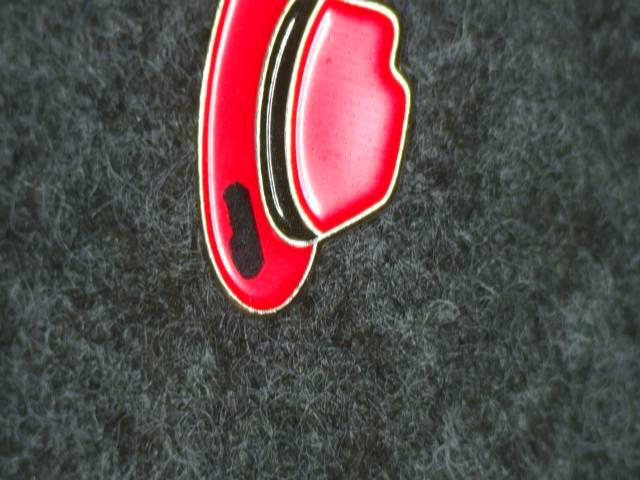Red-Hat: (163, 0, 413, 350)
Scratch: (214, 163, 282, 293)
